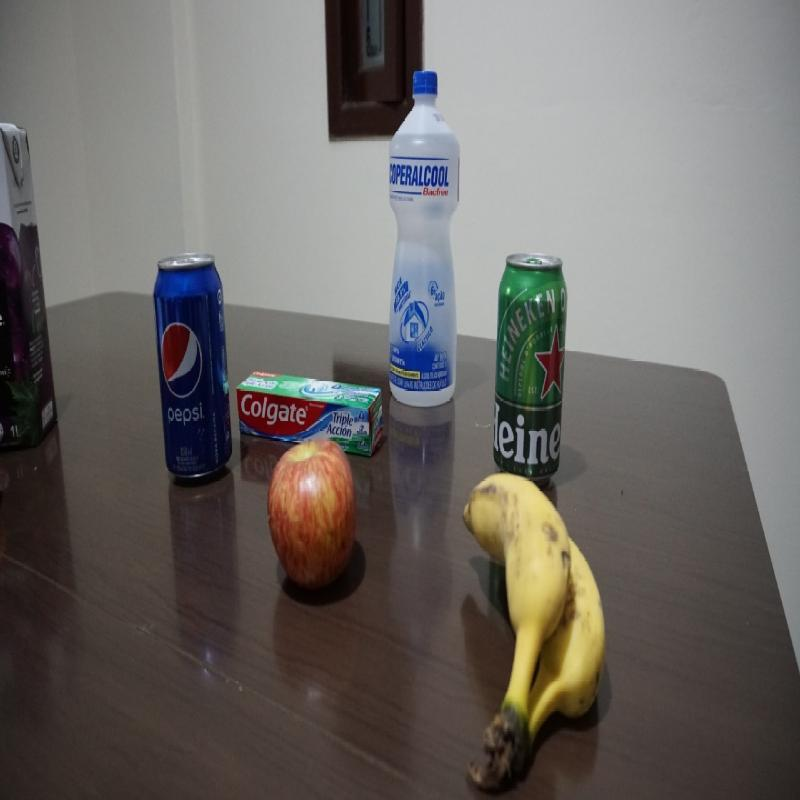Alcohol Bottle: (387, 70, 462, 412)
Apple: (268, 439, 355, 596)
Banana: (459, 471, 610, 792)
Beer can: (489, 251, 569, 483)
Soda can: (155, 252, 234, 488)
Toothpaste: (237, 371, 386, 457)
